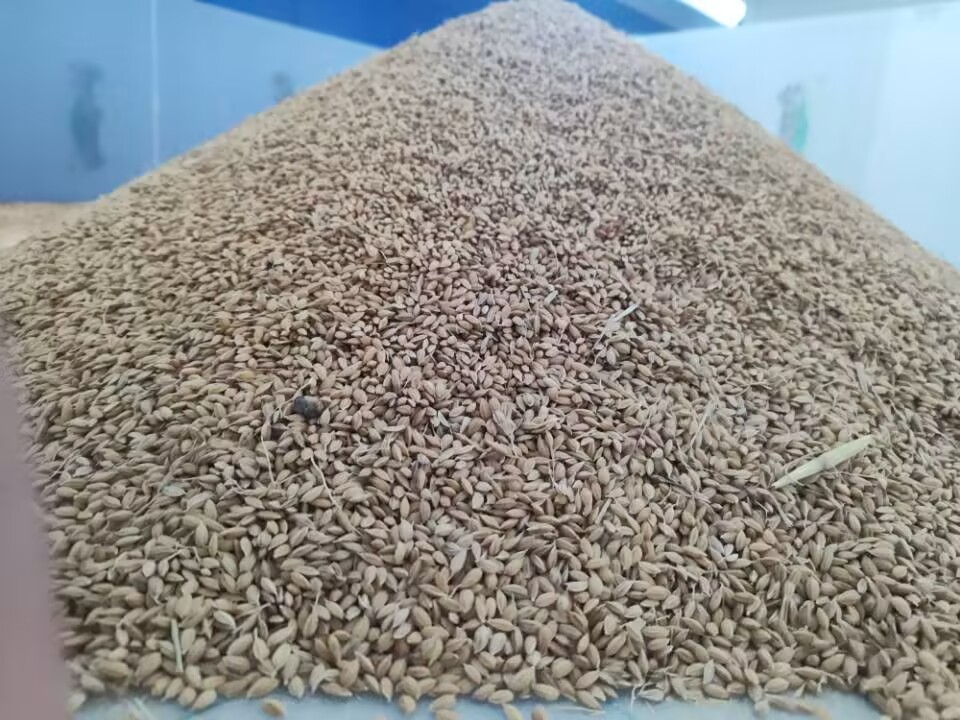Grain: (170, 2, 925, 603)
